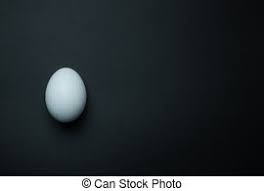egg: (44, 67, 86, 122)
